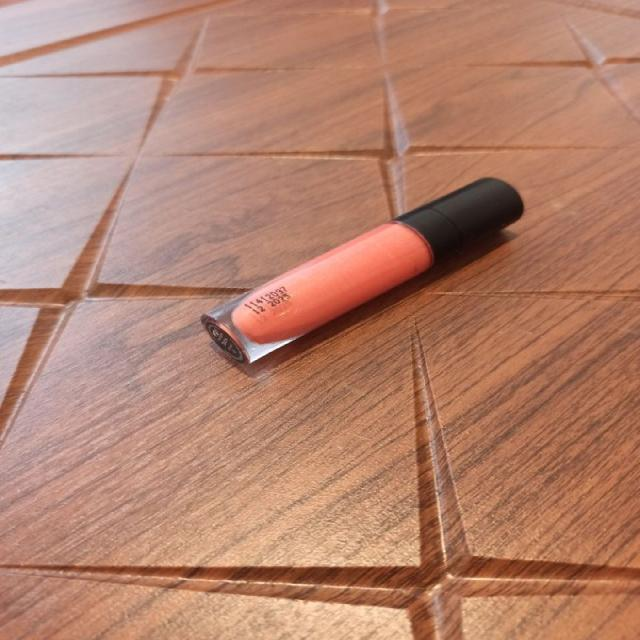lipstick: (199, 175, 524, 364)
